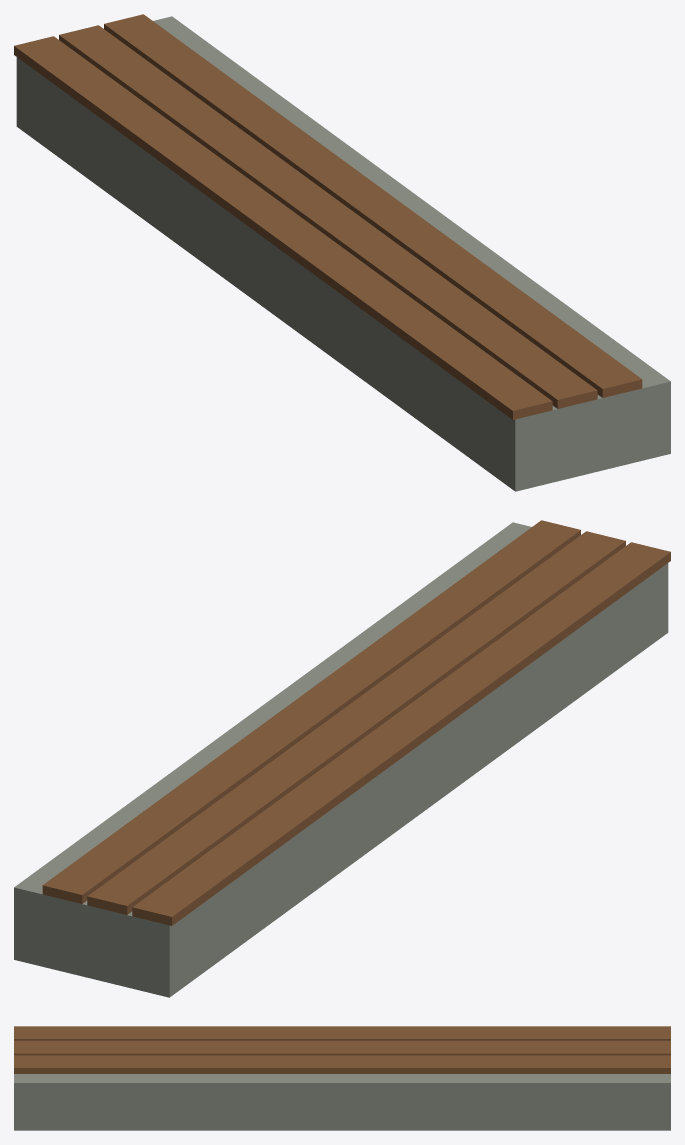
Rendered from bench.glb.
3 renders of one model, top to bottom at view 1: azimuth 30°, elevation 25°; view 2: azimuth 150°, elevation 25°; view 3: azimuth 270°, elevation 25°, orthographic. The views are drawn at different scales.
Visible parts, largest first — view 1: Approved C1A bench / material batch; view 2: Approved C1A bench / material batch; view 3: Approved C1A bench / material batch.
Part boxes in pixels (x1=…): Approved C1A bench / material batch: x1=14, y1=14, x2=670, y2=491; Approved C1A bench / material batch: x1=14, y1=520, x2=670, y2=997; Approved C1A bench / material batch: x1=14, y1=1026, x2=670, y2=1130.
Size of the model in its own units: 0.915 by 0.45 by 5.
